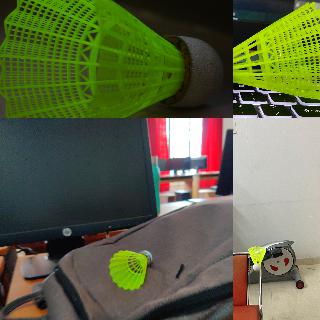shuttlecock: (0, 0, 225, 117), (233, 2, 319, 100), (108, 250, 152, 290), (248, 246, 266, 270)
